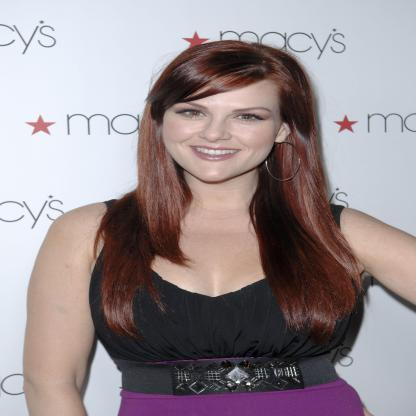long-hair: (121, 182, 335, 210)
